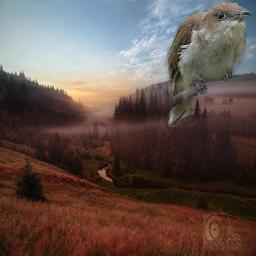Cuckoo: (164, 0, 252, 127)
